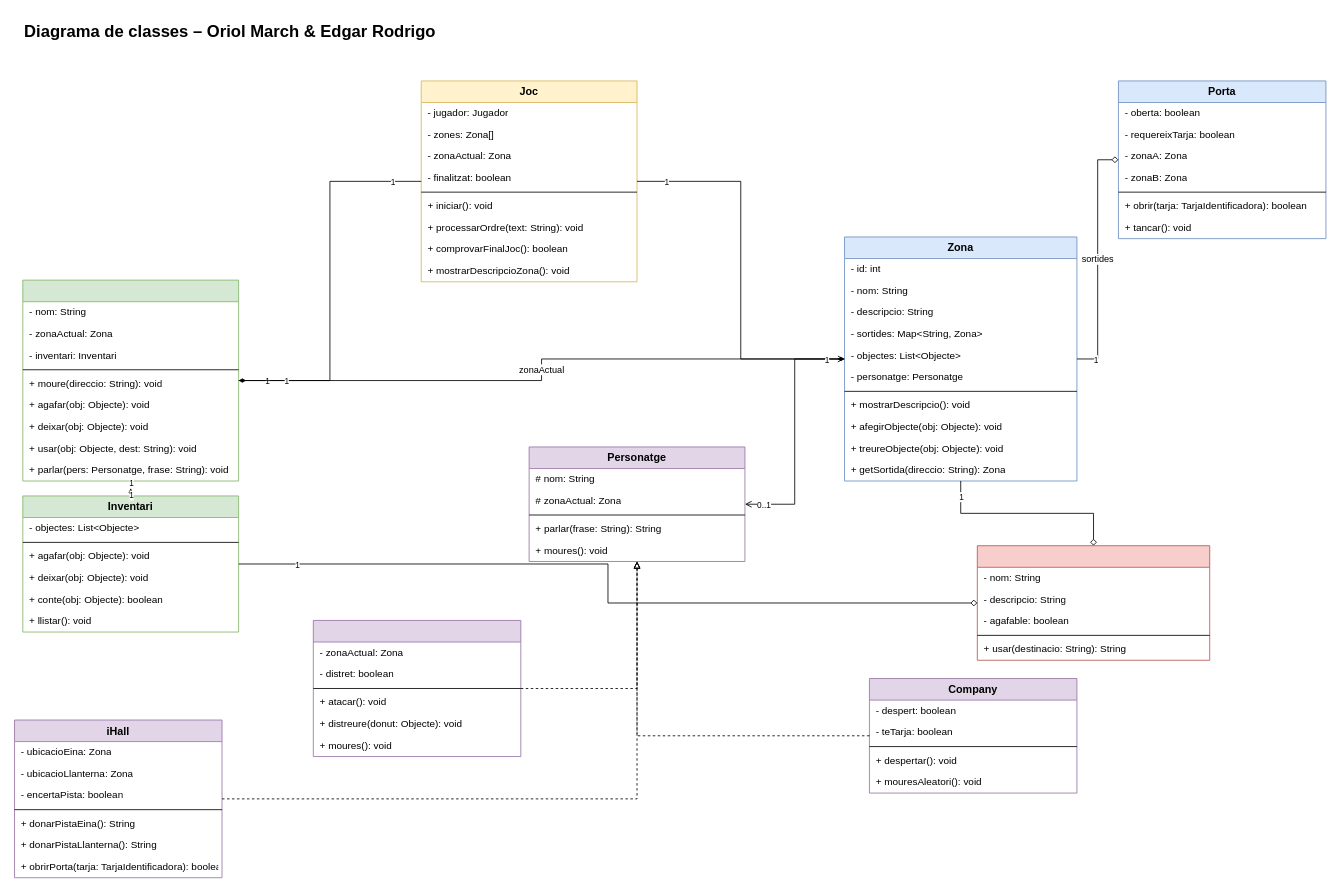
The diagram is 1340 pixels wide and 892 high, and some of its shapes have lost their labels. The shapes that lost their labels are listed below. From the top down, each one's box as (x1, y1, x2, y2) in pixels, then its label:
(22, 279, 239, 481): Jugador
(976, 545, 1210, 660): Objecte
(312, 620, 521, 757): Malien
